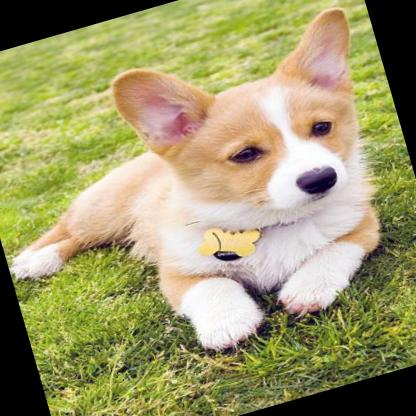Pembroke: (0, 0, 416, 398)
